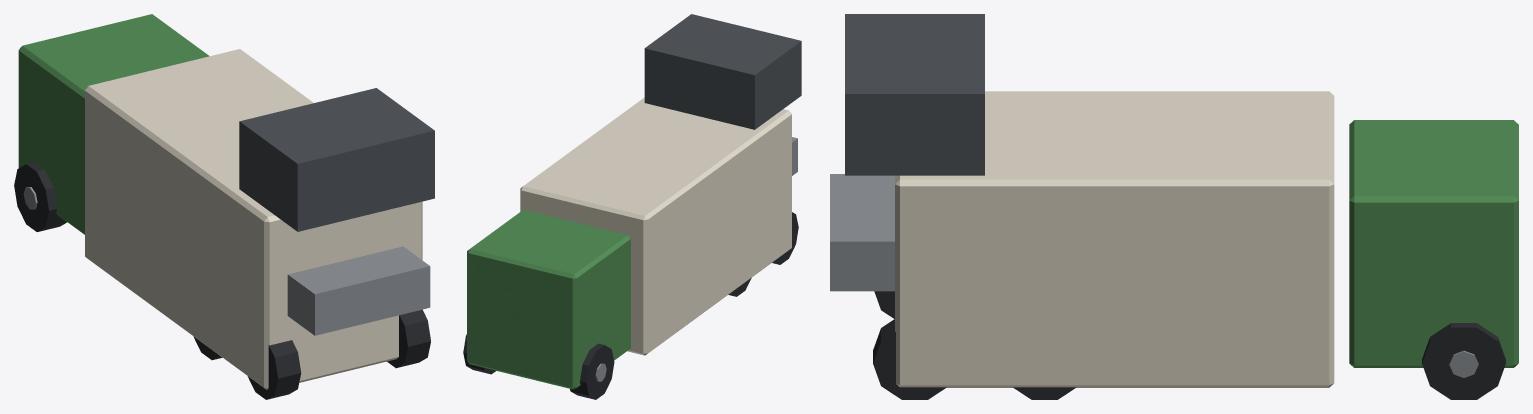
Rendered from vehicle.truck.glb.
3 views of the same model, side by side, from view 1: azimuth 30°, elevation 25°; view 2: azimuth 150°, elevation 25°; view 3: azimuth 270°, elevation 25° (orthographic). The views are drawn at different scales.
Parts seen in each view (by area): view 1: vehicle.truck; view 2: vehicle.truck; view 3: vehicle.truck.
Part boxes in pixels (x1,y1,x2,y2): vehicle.truck: (14,14,434,399); vehicle.truck: (463,14,801,399); vehicle.truck: (830,14,1518,399).
Size of the model in its own units: 2.2 by 3.33 by 6.9.
